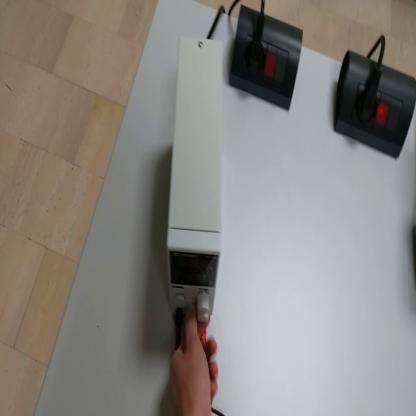hand: (169, 309, 219, 415)
power supply: (169, 37, 226, 325)
socket: (333, 49, 416, 162), (231, 5, 306, 115)
